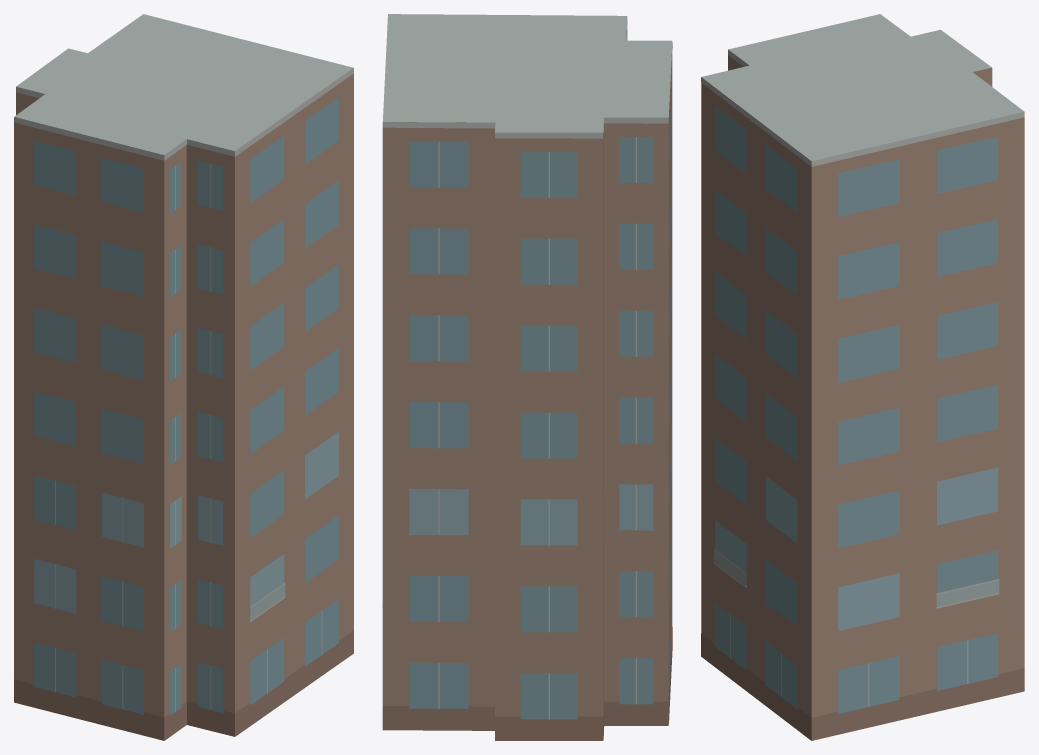
The model's file is survey-upis-32664375.glb.
3 renders of one model, left to right at view 1: azimuth 30°, elevation 25°; view 2: azimuth 150°, elevation 25°; view 3: azimuth 270°, elevation 25°, orthographic. The views are drawn at different scales.
Visible parts, largest first — view 1: survey-upis-32664375.tmp; view 2: survey-upis-32664375.tmp; view 3: survey-upis-32664375.tmp.
Boxes of the visible parts, <box> form: survey-upis-32664375.tmp: <box>14,14,353,740</box>; survey-upis-32664375.tmp: <box>382,14,672,740</box>; survey-upis-32664375.tmp: <box>701,14,1024,740</box>.
Bounding box in the file's own units: 13.85 × 25.4 × 12.86.
